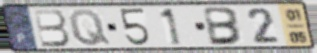1: (159, 7, 183, 47)
2: (247, 7, 282, 45)
5: (118, 7, 151, 47)
B: (202, 6, 245, 47), (32, 8, 72, 48)
Q: (67, 8, 113, 48)
